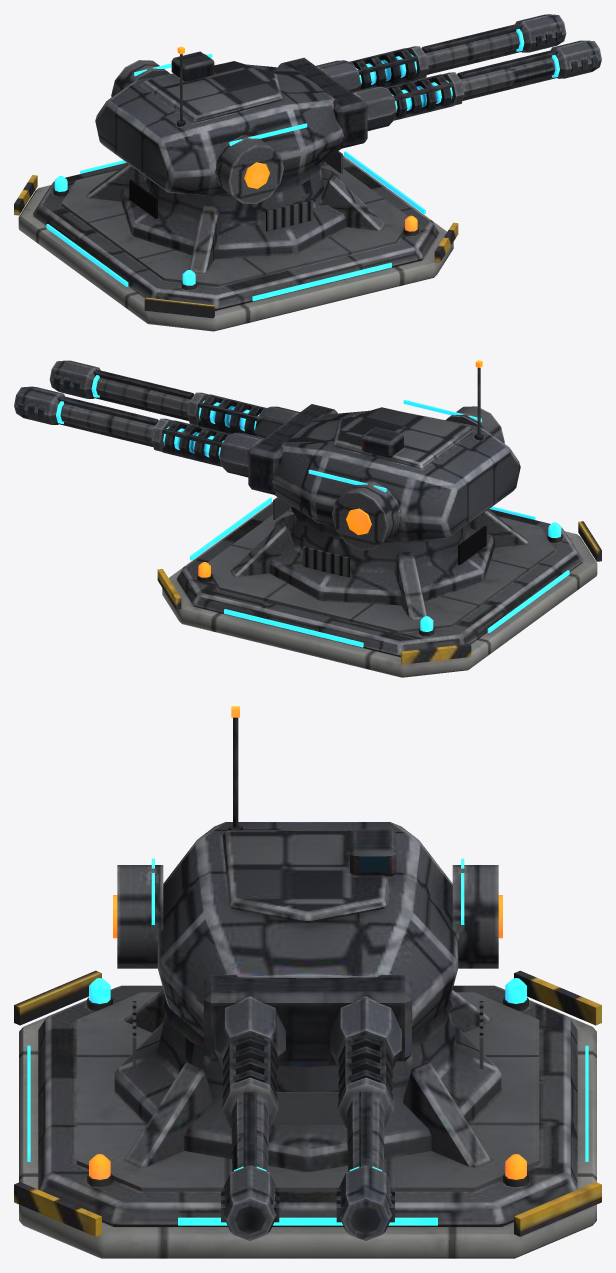
The model's file is terran_turret.glb.
3 renders of one model, top to bottom at view 1: azimuth 30°, elevation 25°; view 2: azimuth 150°, elevation 25°; view 3: azimuth 270°, elevation 25°, orthographic. The views are drawn at different scales.
Visible parts, largest first — view 1: Base, Turret; view 2: Base, Turret; view 3: Base, Turret.
Boxes of the visible parts, box(x1,y1,x2,y2) form: Base: box(14, 151, 458, 331); Turret: box(95, 14, 601, 203); Base: box(157, 497, 601, 677); Turret: box(14, 360, 520, 550); Base: box(14, 970, 601, 1258); Turret: box(113, 706, 502, 1240).
Bounding box in the file's own units: 6.46 × 2.82 × 4.07.
1 material, 1 textured.
